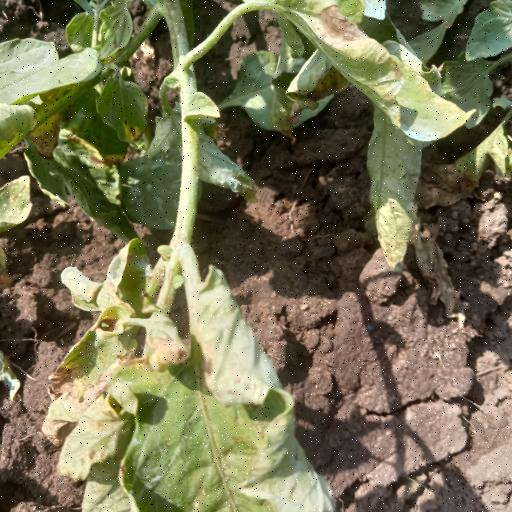Tomato_Brown_Spots: (97, 238, 341, 512)
